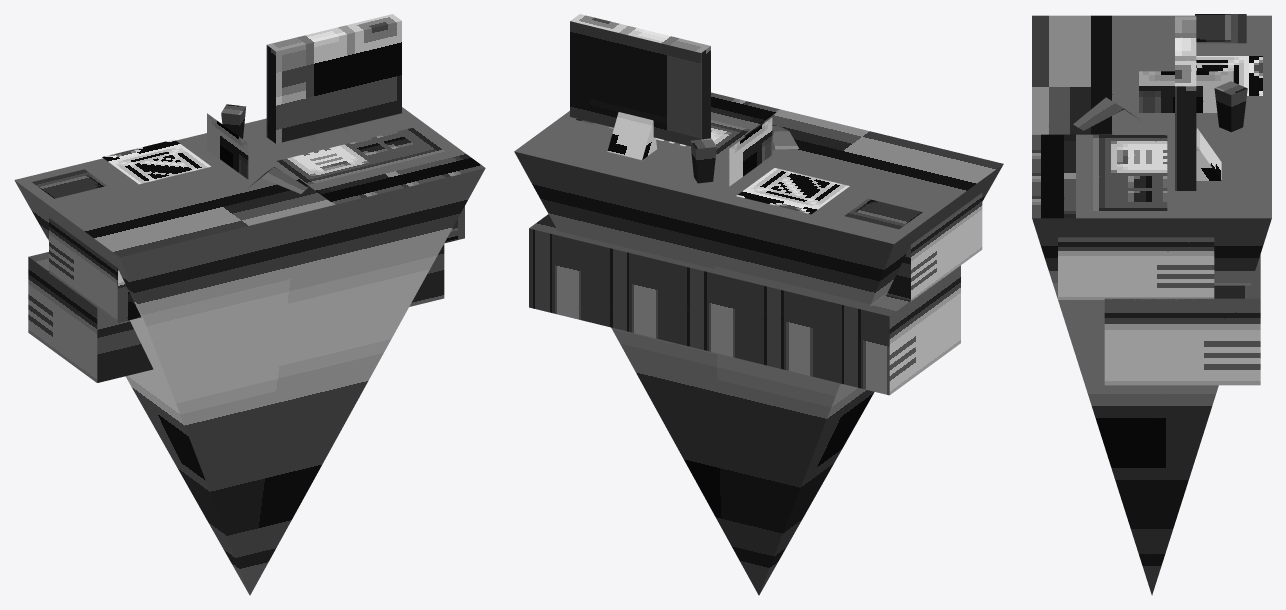
3 renders of one model, left to right at view 1: azimuth 30°, elevation 25°; view 2: azimuth 150°, elevation 25°; view 3: azimuth 270°, elevation 25°, orthographic. The views are drawn at different scales.
Visible parts, largest first — view 1: 3893kg3_shp15; view 2: 3893kg3_shp15; view 3: 3893kg3_shp15.
Boxes of the visible parts, x1,y1,x2,y2 form: 3893kg3_shp15: [14, 14, 485, 595]; 3893kg3_shp15: [514, 14, 1003, 595]; 3893kg3_shp15: [1032, 14, 1271, 595].
Size of the model in its own units: 1.8 by 2.48 by 0.9006.
Materials: 3 (3 with a texture image).
